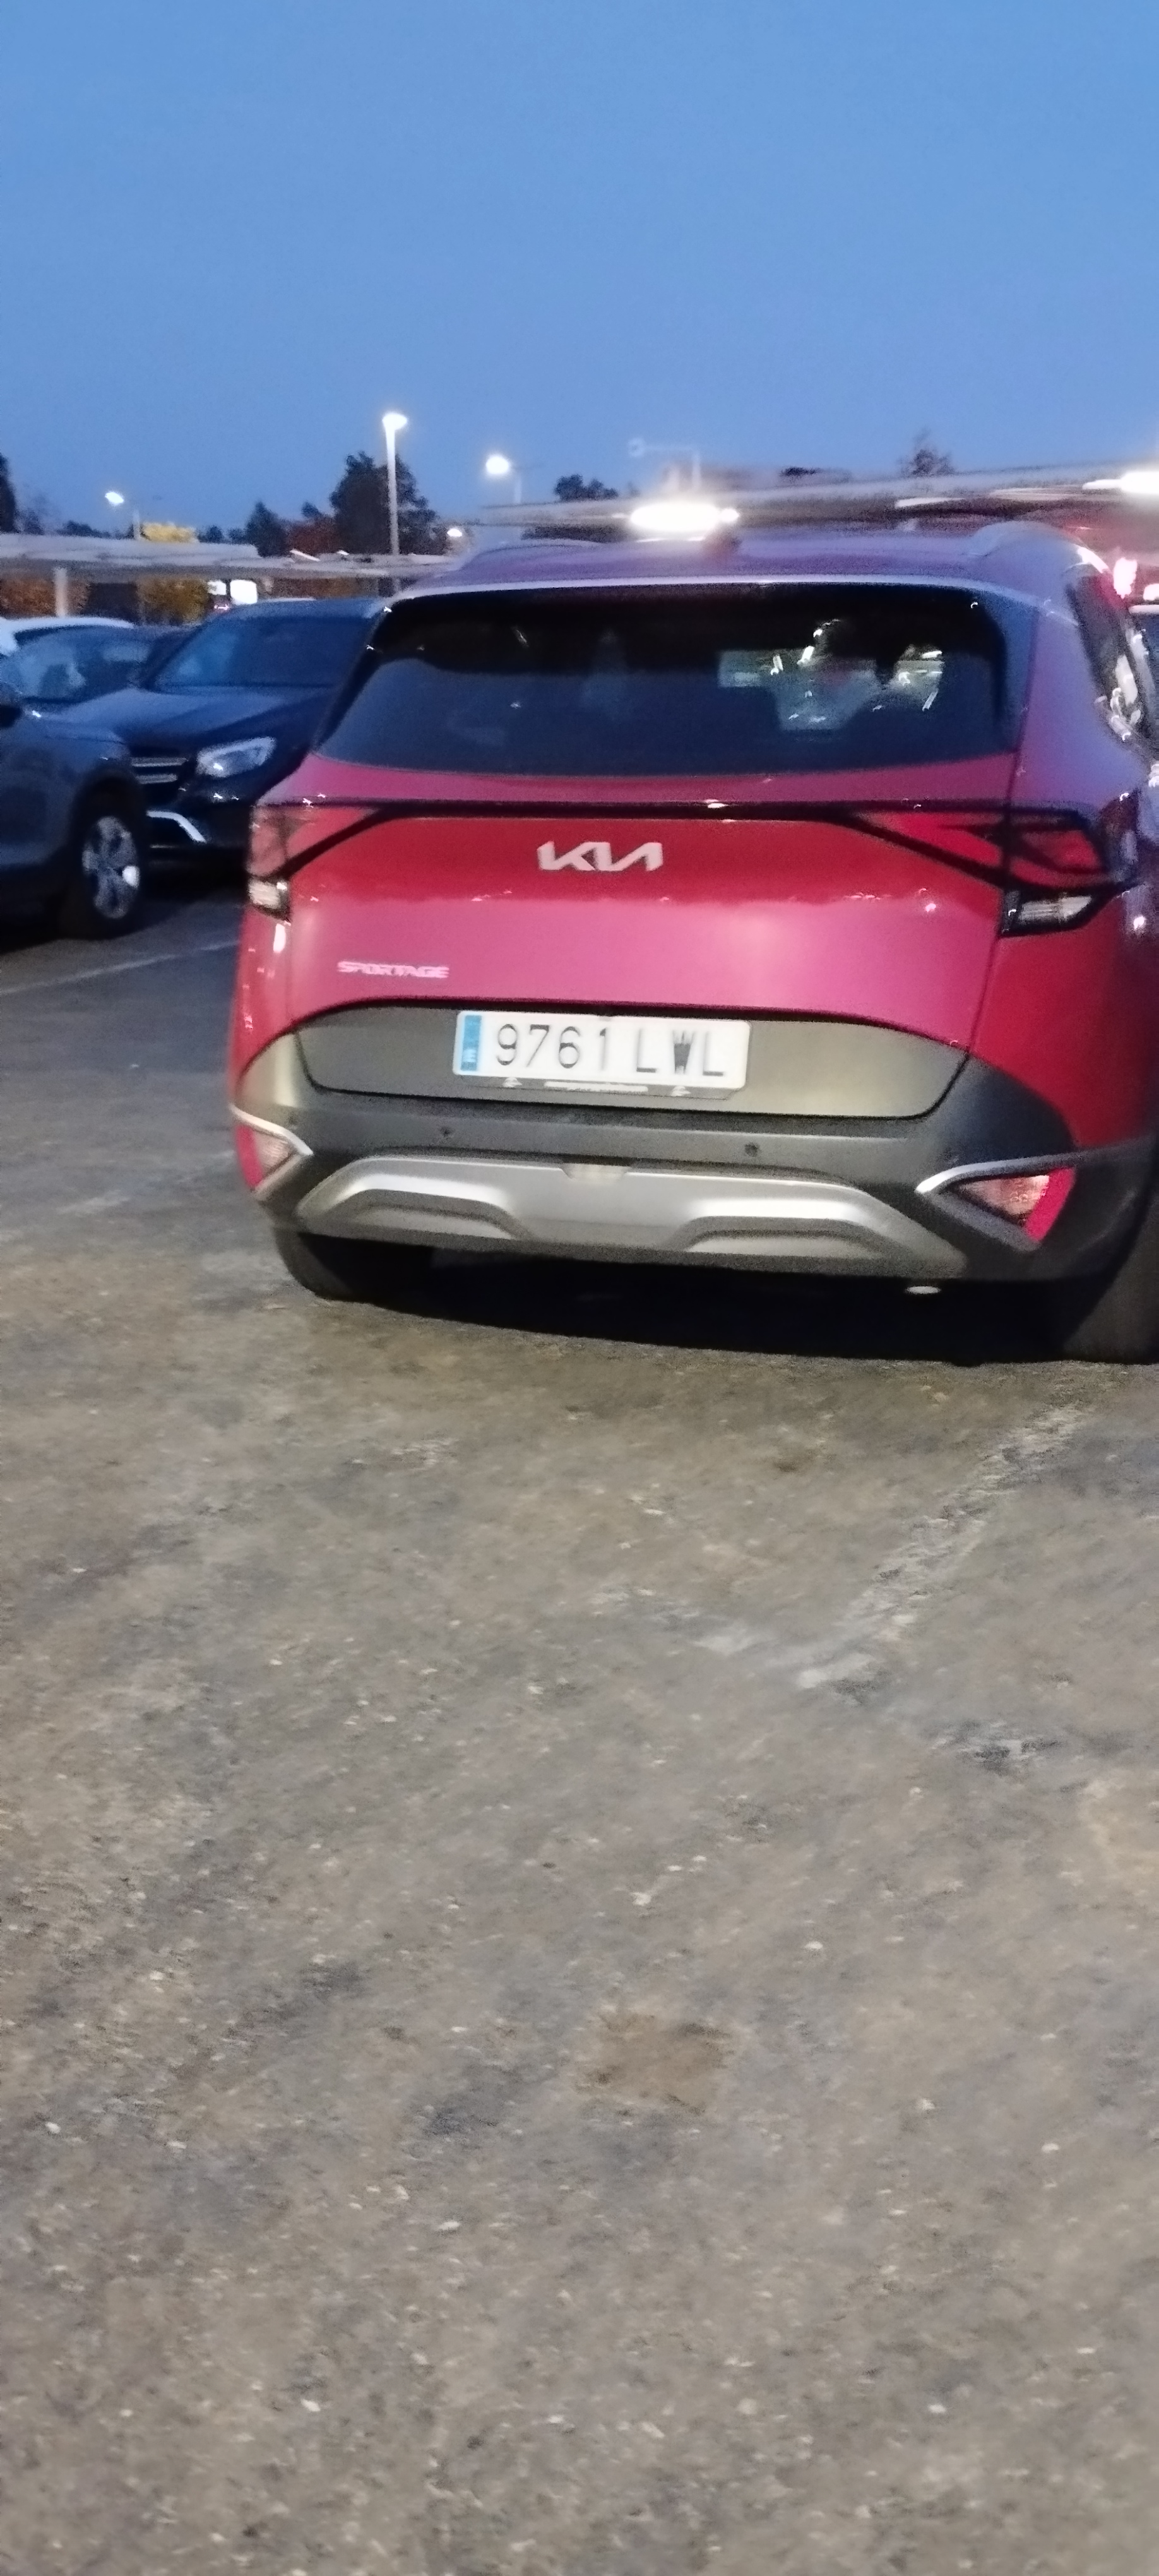Car: (237, 498, 1153, 1354)
Plate: (460, 1008, 747, 1093)
